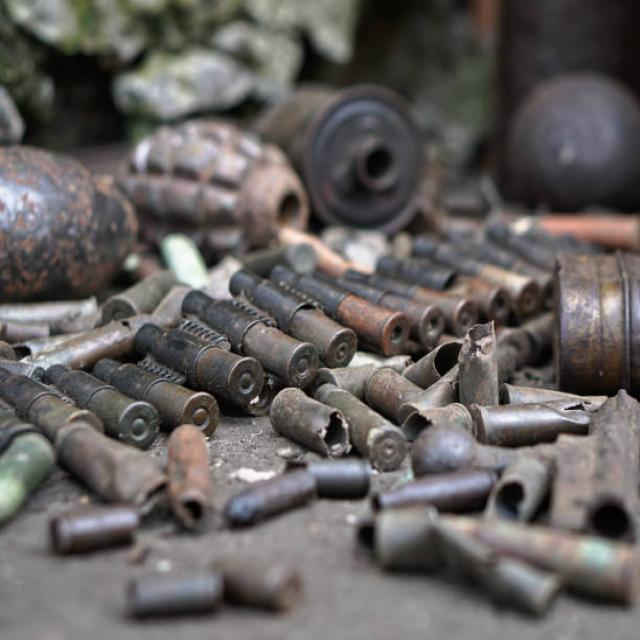grenade: (126, 120, 319, 254)
